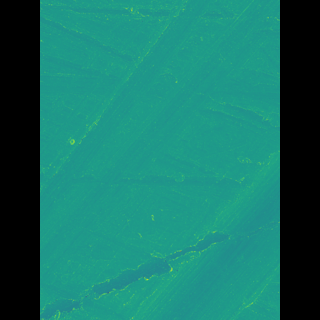Loch: (69, 0, 199, 289), (143, 144, 248, 320)
